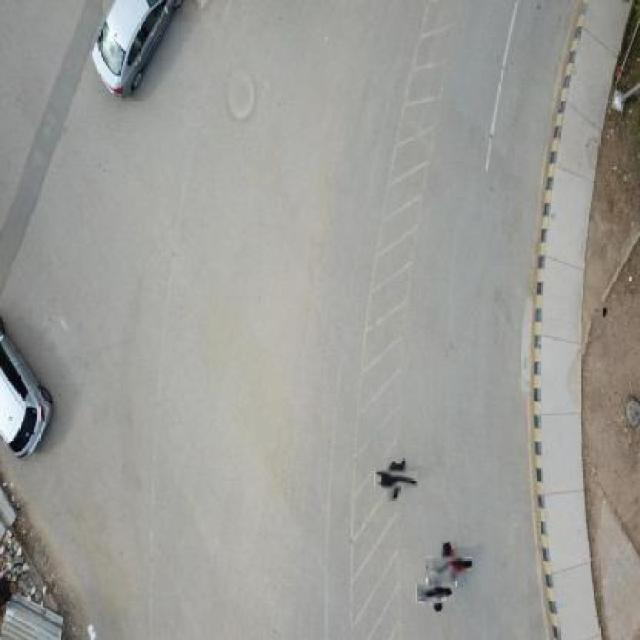Person: (432, 548, 466, 582), (381, 464, 413, 494), (422, 580, 449, 609)
